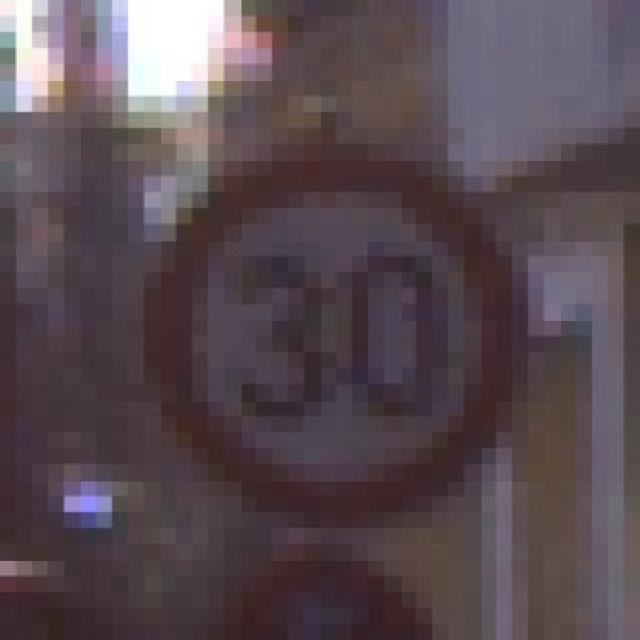Speed Limit 30 KMPh: (112, 111, 560, 528)
